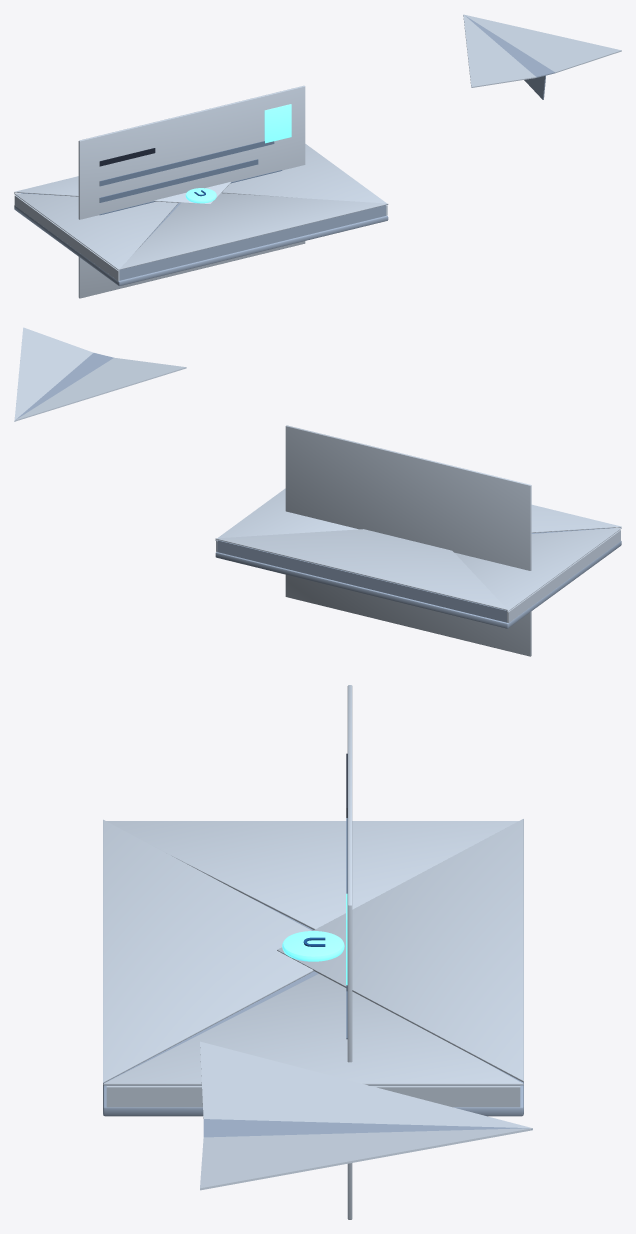
The model's file is contact.glb.
3 renders of one model, top to bottom at view 1: azimuth 30°, elevation 25°; view 2: azimuth 150°, elevation 25°; view 3: azimuth 270°, elevation 25°, orthographic. The views are drawn at different scales.
Visible parts, largest first — view 1: envelope, letter, plane, flap; view 2: letter, envelope, flap, plane; view 3: envelope, flap, plane, letter.
Part boxes in pixels (x1,y1,x2,y2): envelope: [14, 144, 388, 286]; letter: [78, 85, 305, 298]; plane: [463, 14, 621, 99]; flap: [14, 176, 230, 204]; letter: [285, 425, 531, 656]; envelope: [215, 488, 621, 628]; flap: [215, 529, 507, 610]; plane: [14, 327, 186, 421]; envelope: [103, 819, 523, 1116]; flap: [277, 819, 523, 1082]; plane: [200, 1041, 532, 1190]; letter: [346, 685, 352, 1219].
Bounding box in the file's own units: 6.65 × 1.9 × 2.35.
